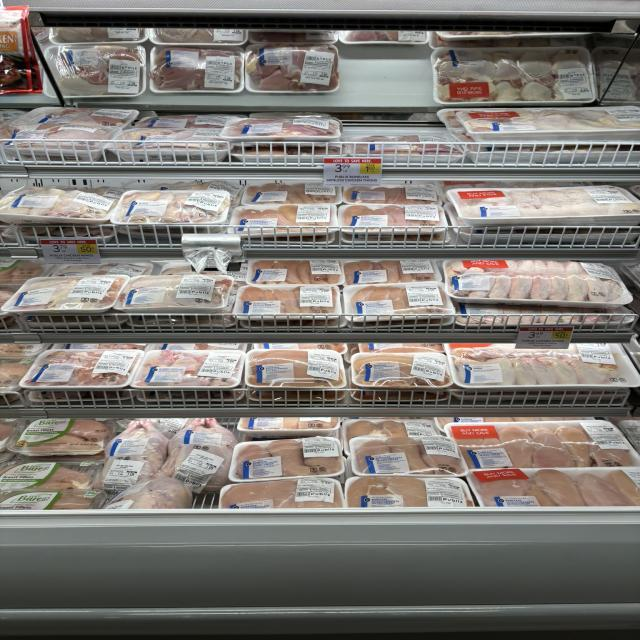Meat: (443, 419, 640, 469), (443, 260, 632, 308), (445, 344, 640, 389), (447, 185, 640, 226), (467, 468, 640, 507), (457, 106, 640, 141), (93, 419, 168, 495), (162, 419, 237, 492), (228, 436, 343, 482), (20, 349, 145, 389), (348, 435, 467, 476), (2, 275, 130, 313), (0, 185, 122, 224), (343, 281, 455, 322), (245, 344, 347, 389), (113, 274, 233, 312), (0, 124, 120, 161), (132, 350, 245, 389), (108, 128, 230, 162), (345, 476, 473, 508), (338, 204, 448, 241), (112, 190, 230, 224), (220, 478, 343, 509), (352, 351, 452, 389), (10, 419, 110, 456), (230, 204, 337, 238), (220, 112, 342, 141), (103, 478, 192, 510), (0, 462, 92, 490), (343, 260, 440, 285), (247, 260, 343, 285), (242, 181, 342, 205), (343, 419, 438, 444), (237, 416, 340, 438), (0, 490, 107, 510), (343, 184, 442, 205)
